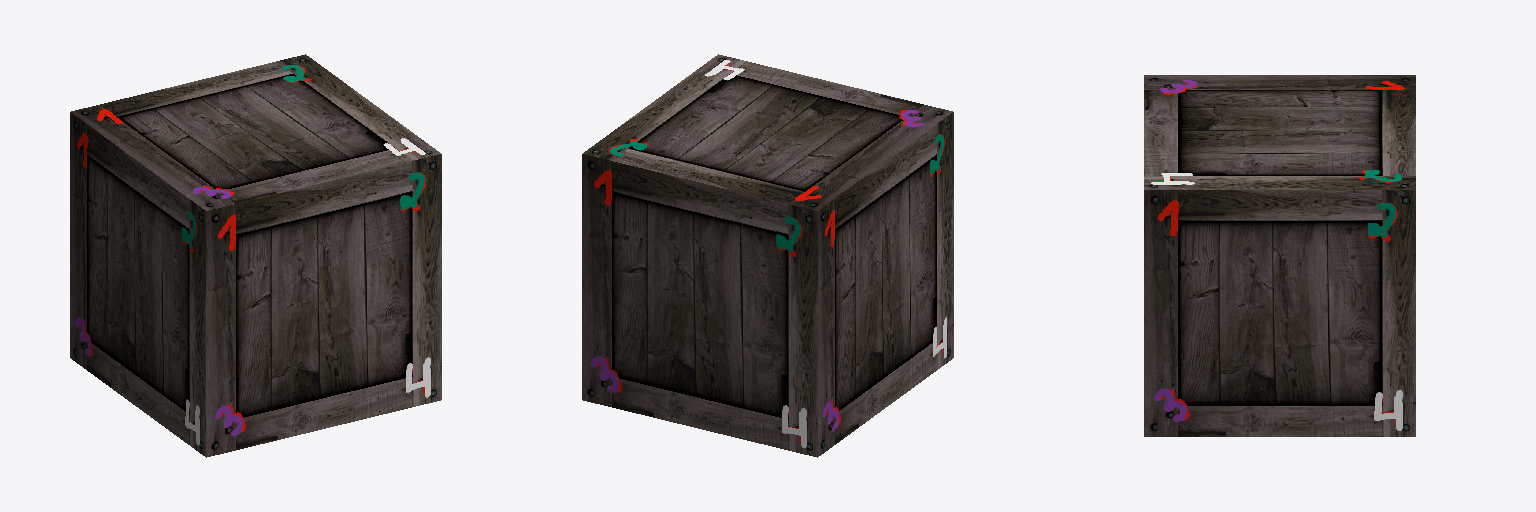
3 renders of one model, left to right at view 1: azimuth 30°, elevation 25°; view 2: azimuth 150°, elevation 25°; view 3: azimuth 270°, elevation 25°, orthographic.
Parts seen in each view (by area): view 1: cube; view 2: cube; view 3: cube.
Boxes of the visible parts, x1,y1,x2,y2 form: cube: [70, 54, 441, 457]; cube: [582, 54, 953, 457]; cube: [1144, 75, 1415, 436].
Bounding box in the file's own units: 2 × 2 × 2.
Materials: 1 (1 with a texture image).